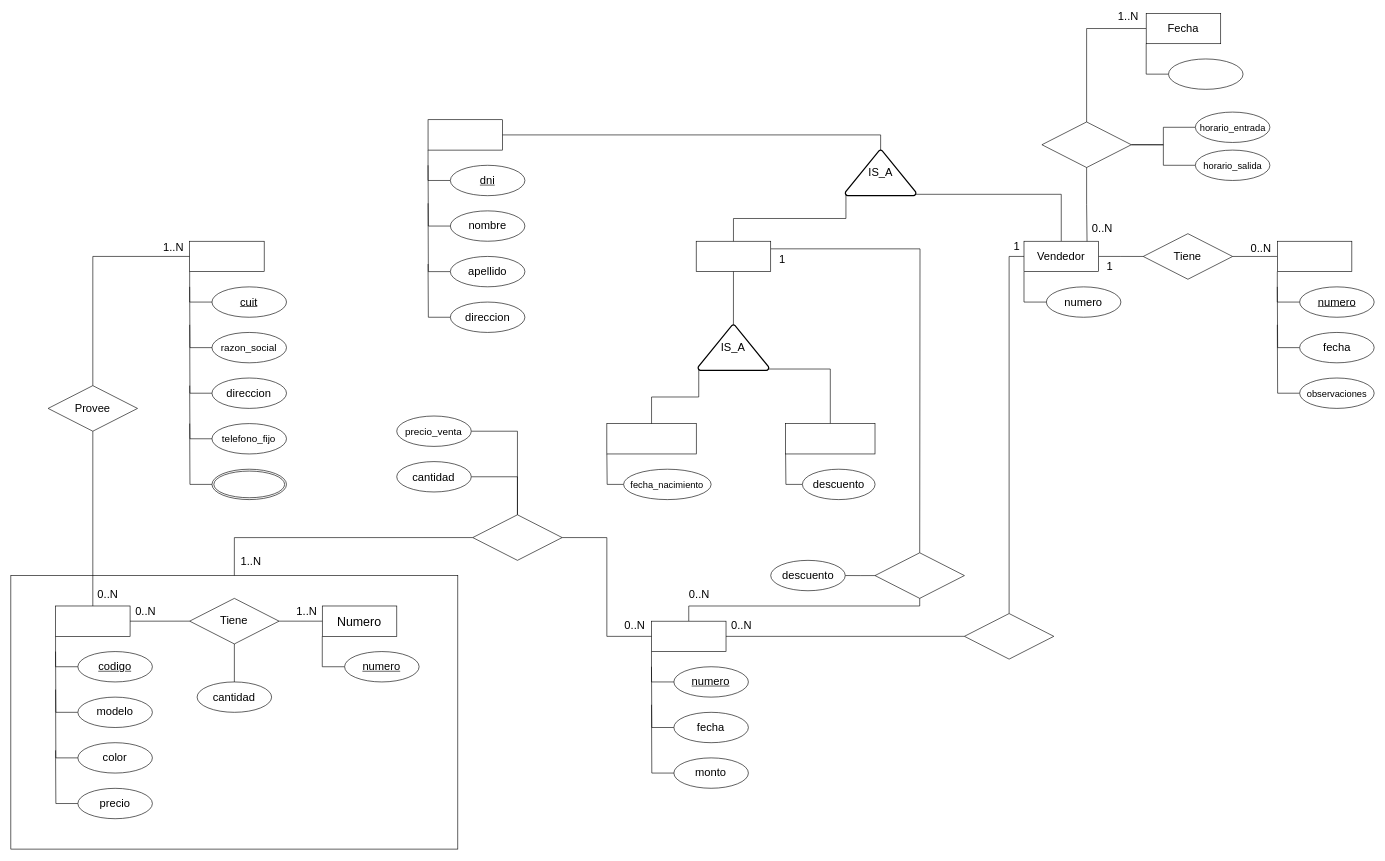
The diagram is 1385 pixels wide and 861 high, and some of its shapes have lost their labels. The shapes that lost their labels are listed below. From the top down, each one's centre as x and y in pixels, then its label:
At pixel 1205 73: "dia".
At pixel 465 134: "Persona".
At pixel 1086 144: "Trabaja".
At pixel 226 256: "Proveedor".
At pixel 733 256: "Cliente".
At pixel 1314 256: "Franco".
At pixel 651 438: "Cliente_Minorista".
At pixel 830 438: "Cliente_Mayorista".
At pixel 249 484: "celular".
At pixel 517 537: "Pertenece".
At pixel 919 575: "Compra".
At pixel 92 620: "Zapato".
At pixel 688 636: "Factura".
At pixel 1009 636: "Efectua".
